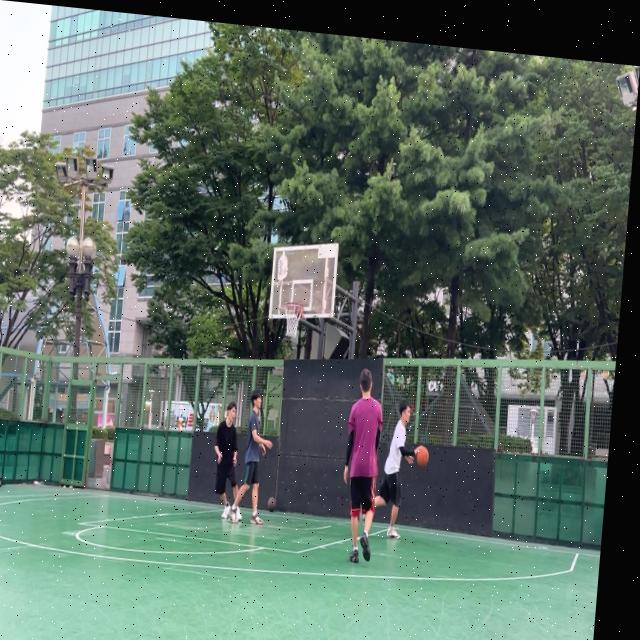basketball: (416, 444, 430, 468), (267, 496, 277, 513)
hoop: (281, 300, 304, 338)
